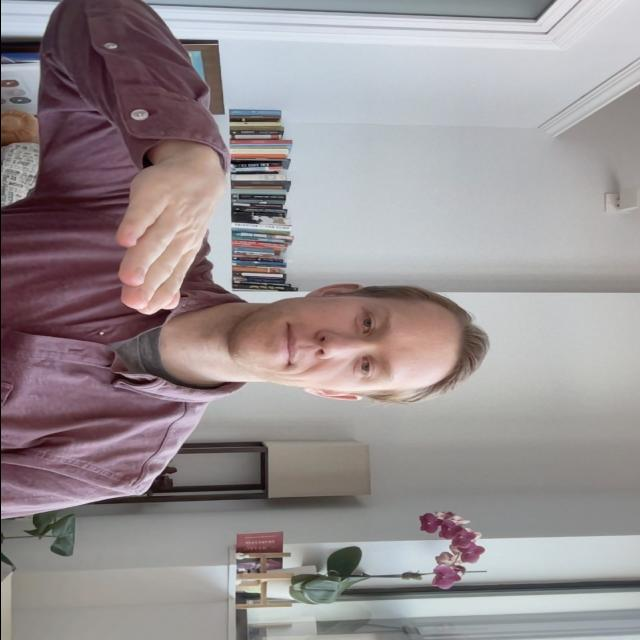Paper: (87, 154, 235, 318)
